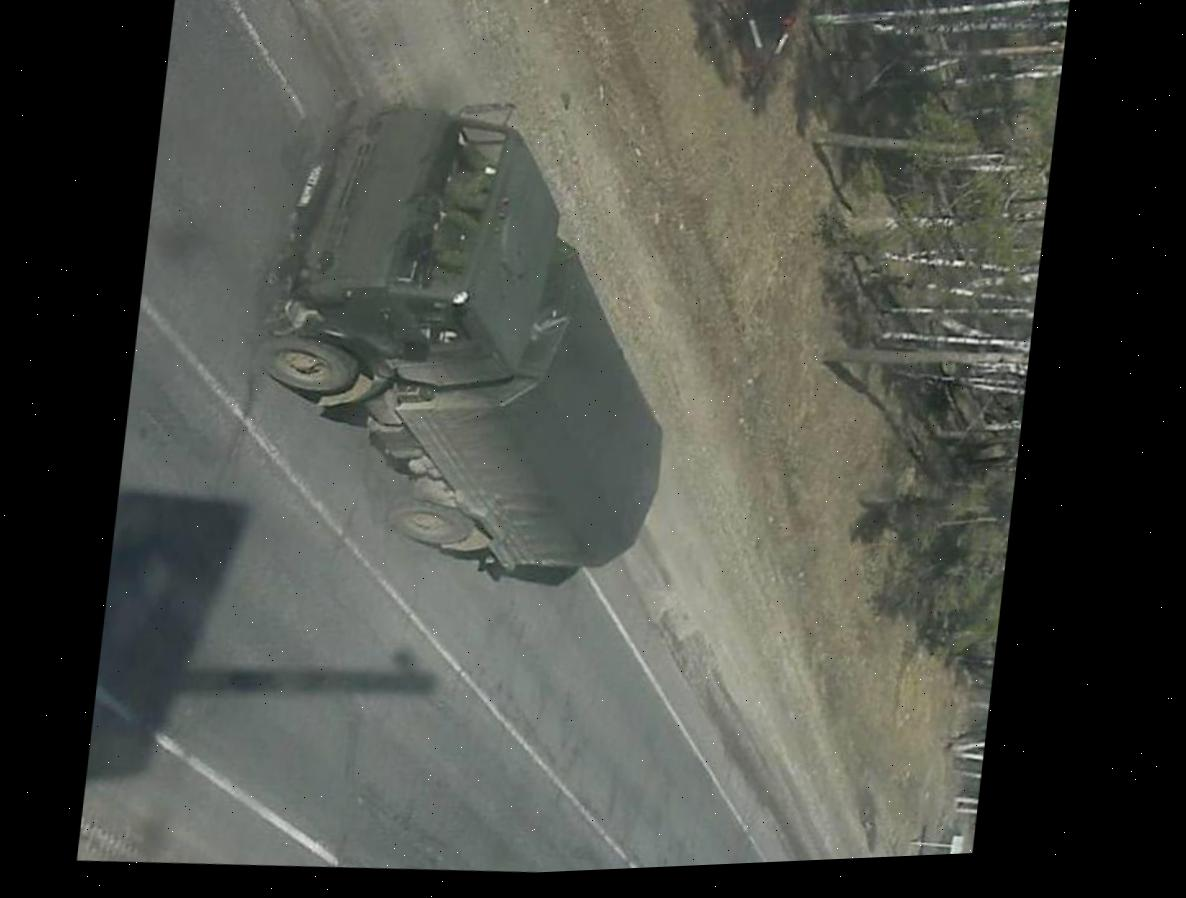truck: (243, 90, 704, 601)
